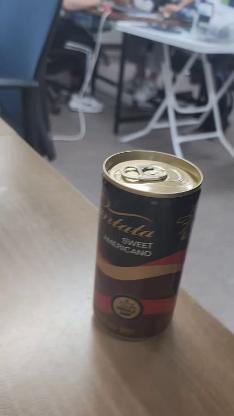Can: (96, 146, 186, 340)
